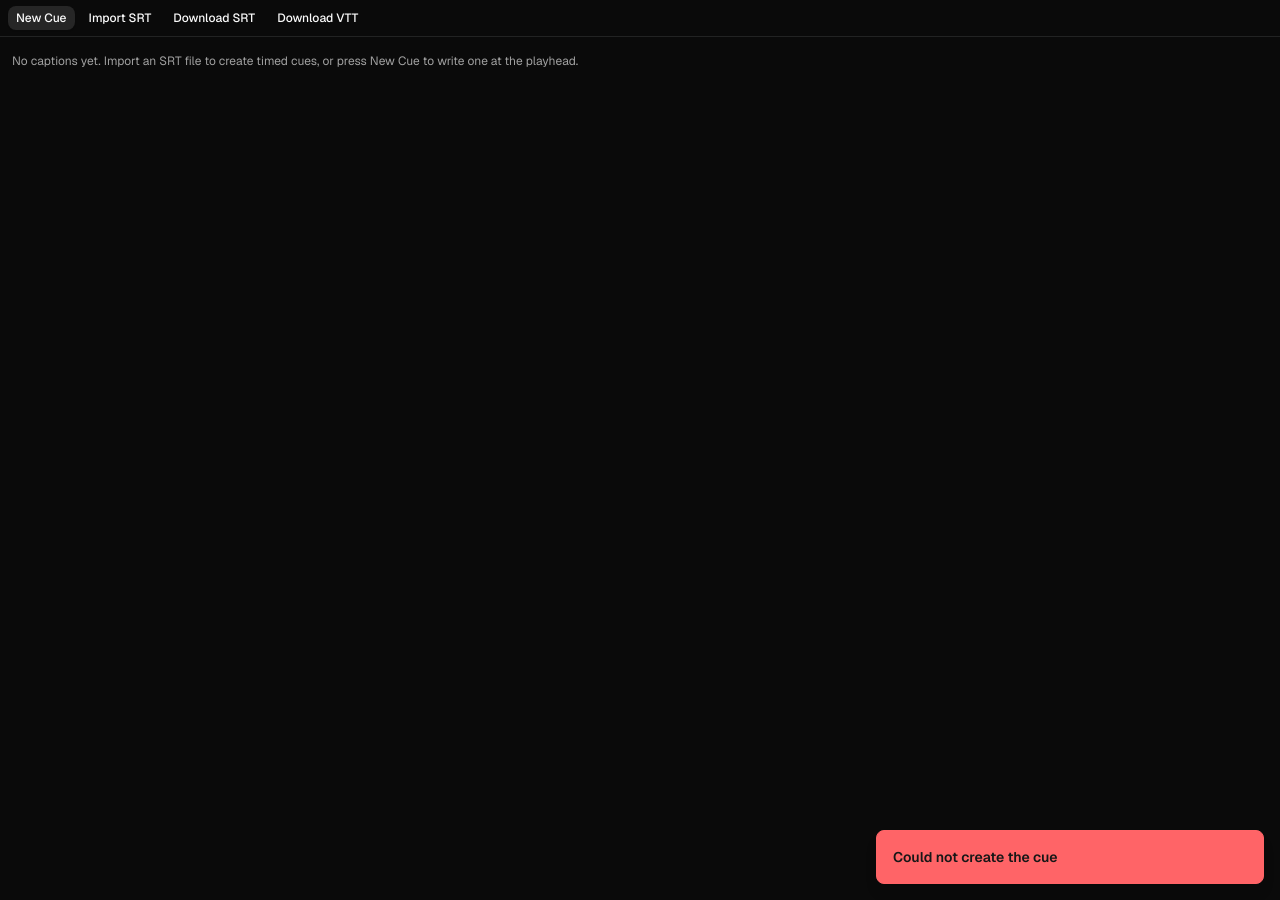
CaptionsPanel (0.8.5) › Download SRT with zero cues toasts the refusal
Click the button with test id "captions-download".
click(214, 18)  # box top-left (165, 6), bottom-right (263, 30)
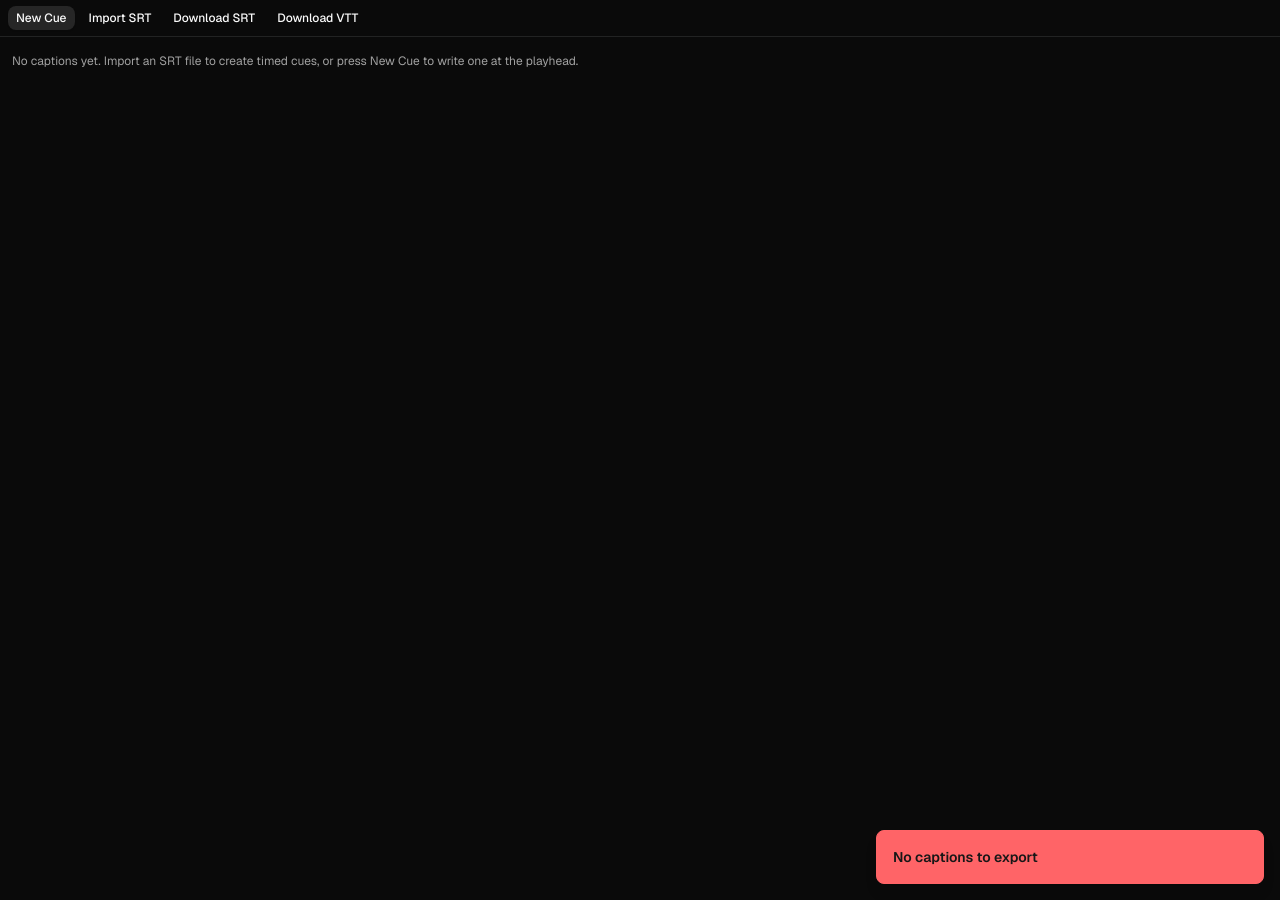
Expected: the text "No captions to export" is shown, top-left (893, 847), bottom-right (1038, 867)
